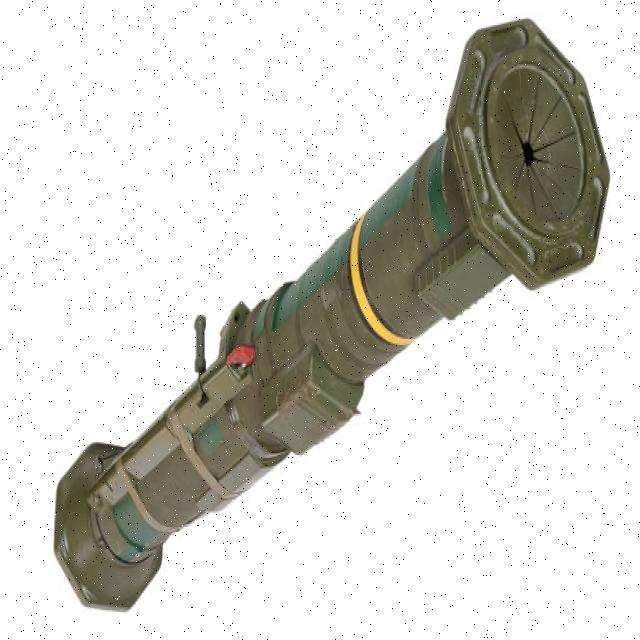bazooka: (49, 1, 618, 618)
